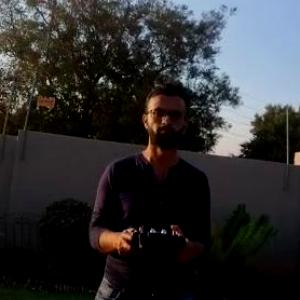follow: (88, 74, 224, 299)
